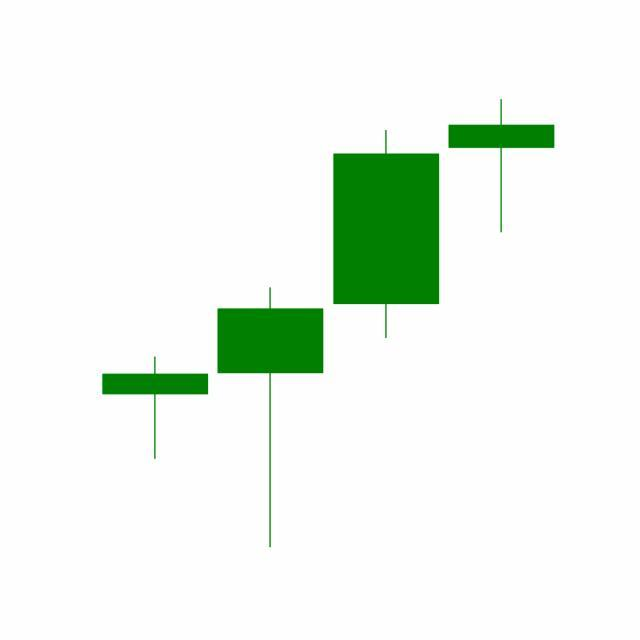Advance Block: (211, 99, 555, 549)
